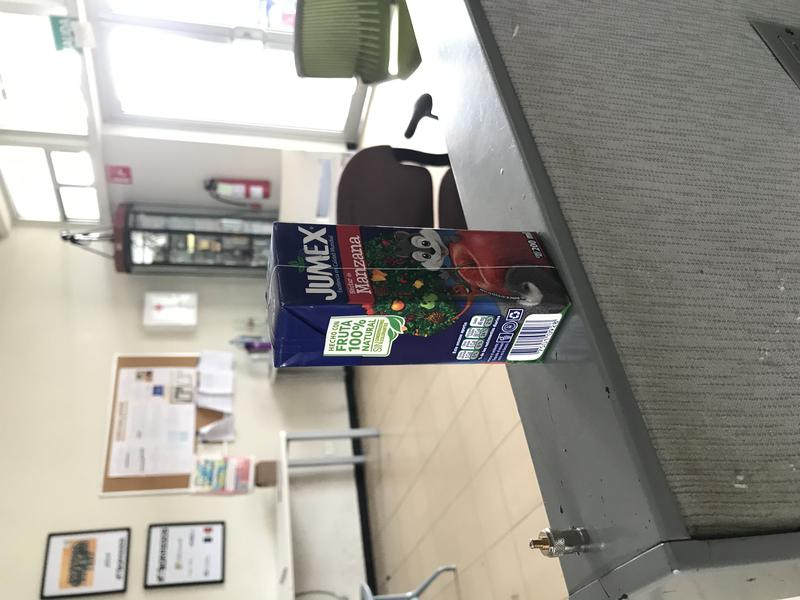jumex_cajita: (263, 221, 574, 369)
